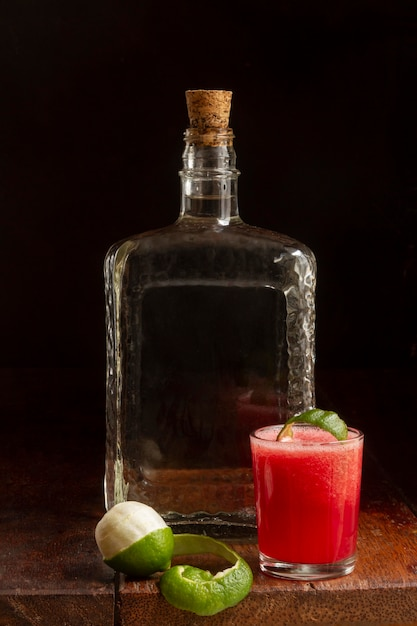alcohol: (104, 87, 316, 544), (248, 411, 375, 582)
